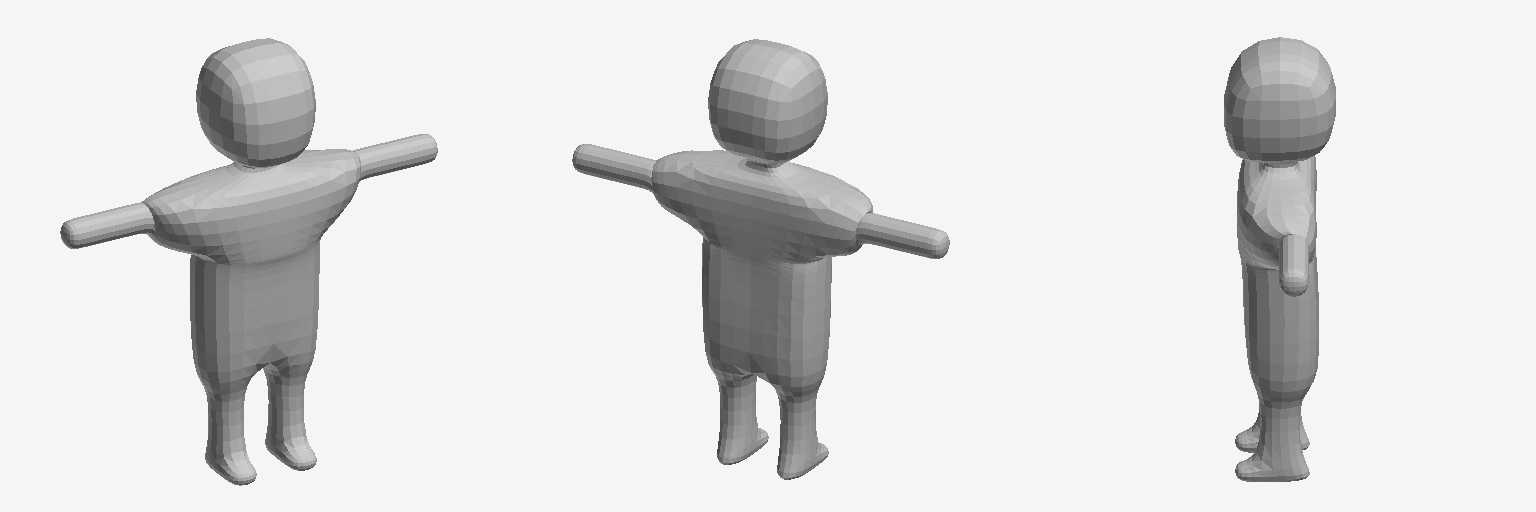
The model's file is person.obj.
3 views of the same model, side by side, from view 1: azimuth 30°, elevation 25°; view 2: azimuth 150°, elevation 25°; view 3: azimuth 270°, elevation 25° (orthographic).
Visible parts, largest first — view 1: Cube; view 2: Cube; view 3: Cube.
Part boxes in pixels (left/top/right/bottom): Cube: left=60, top=38, right=437, bottom=485; Cube: left=572, top=39, right=949, bottom=479; Cube: left=1224, top=37, right=1335, bottom=481.
Bounding box in the file's own units: 7.24 × 7.79 × 1.89.